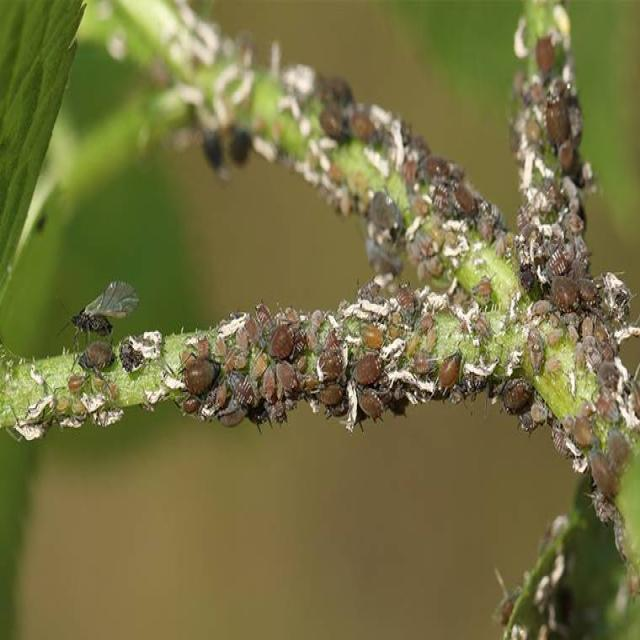Aphids: (176, 341, 220, 401), (264, 311, 302, 367), (542, 85, 573, 147), (79, 331, 118, 379)
